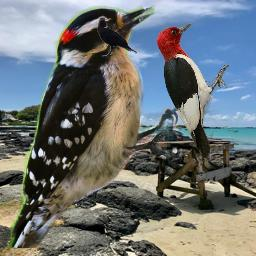Crow: (97, 17, 137, 57)
Woodpecker: (10, 5, 184, 248), (155, 21, 229, 167)
